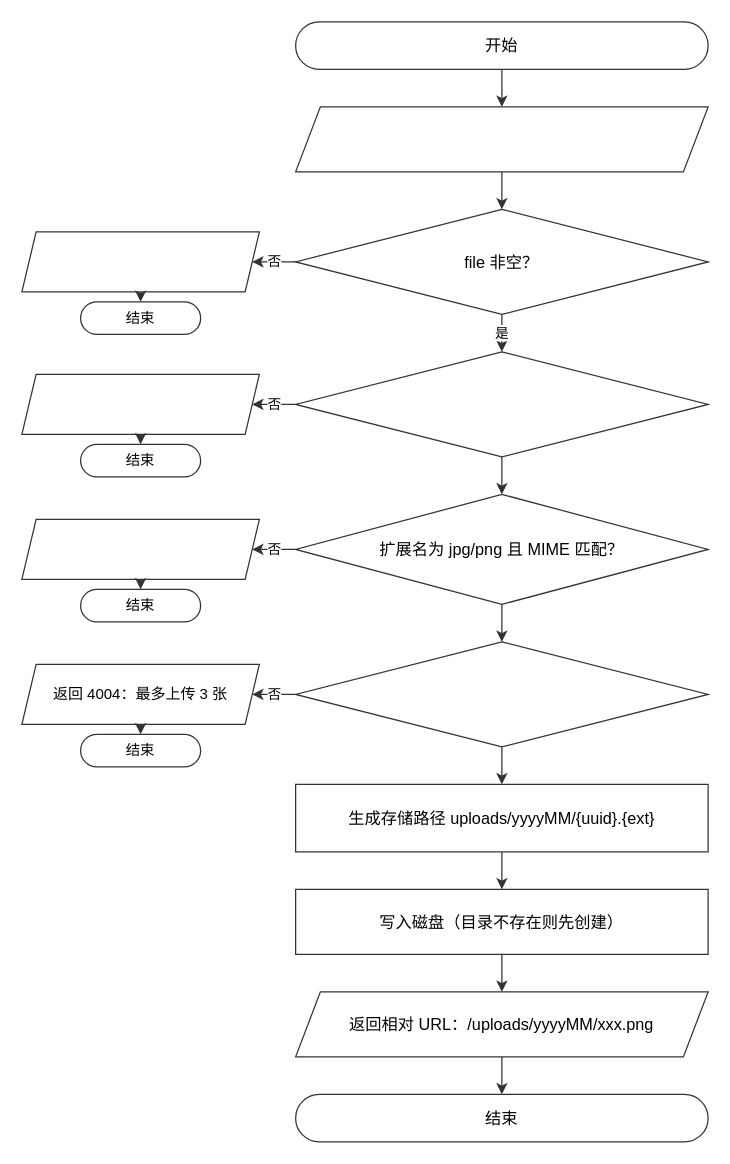
Image size: 730x1164. Some labels were removed from this diagram. Here are the shapes that lost their labels. From the top down, the centre of each, then its label:
At (x=501, y=139): "接收上传文件 MultipartFile file".
At (x=140, y=261): "返回 4001：文件为空".
At (x=140, y=403): "返回 4002：图片超过 2MB".
At (x=501, y=404): "大小不超过 2MB？".
At (x=140, y=548): "返回 4003：仅支持 jpg/png".
At (x=501, y=694): "当前物品图片数小于 3？".
